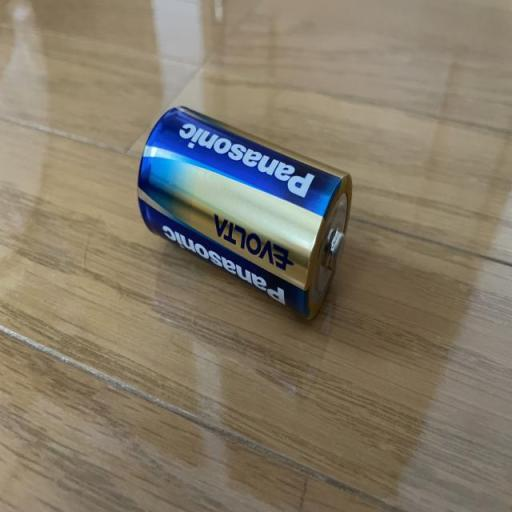battery: (135, 104, 357, 333)
